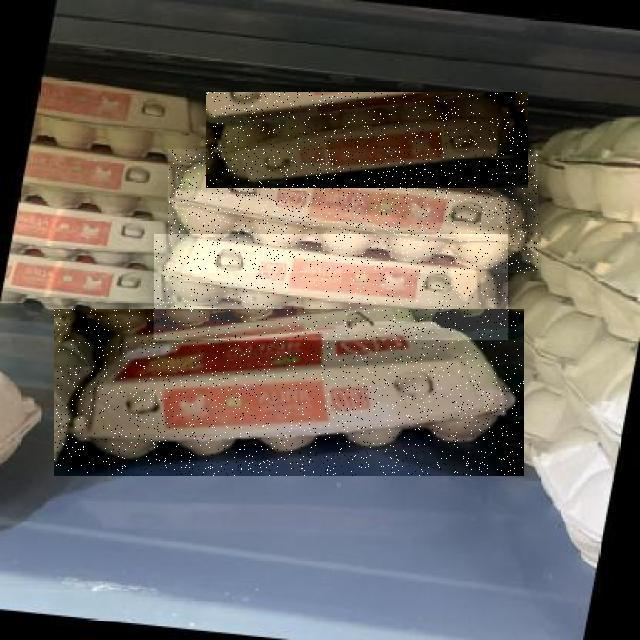Eggs: (54, 309, 524, 476), (168, 149, 538, 273), (154, 234, 508, 340), (206, 92, 528, 188)
